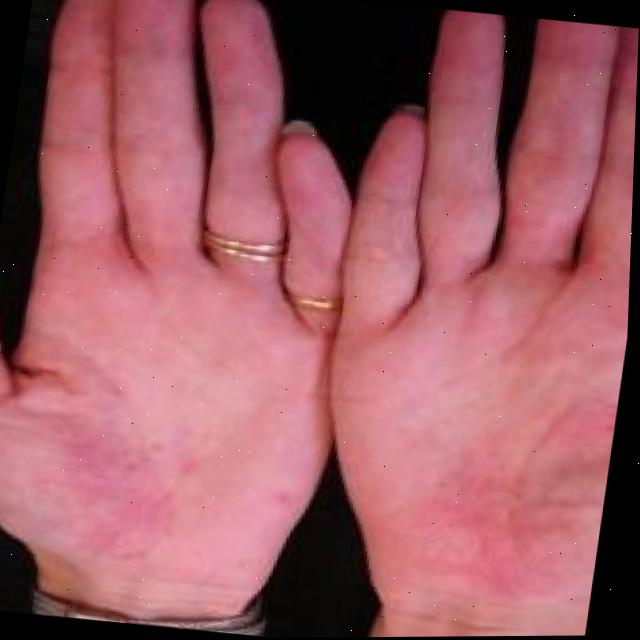Eczema: (417, 368, 620, 591), (12, 396, 189, 552)
